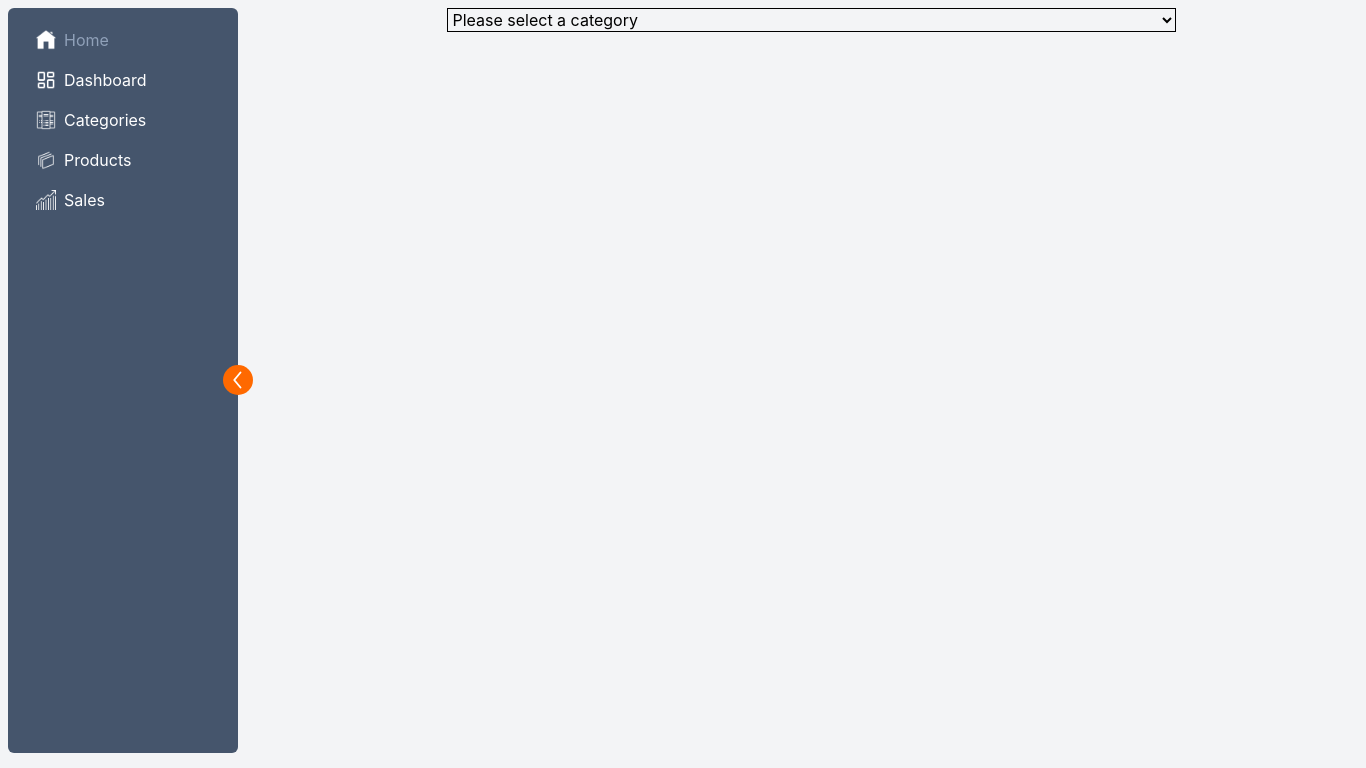
Scenario: ManageProductsPage › should visualize all products for selected category
Select "Electronics" in the dropdown at (812, 20), box [447,8,1176,32]
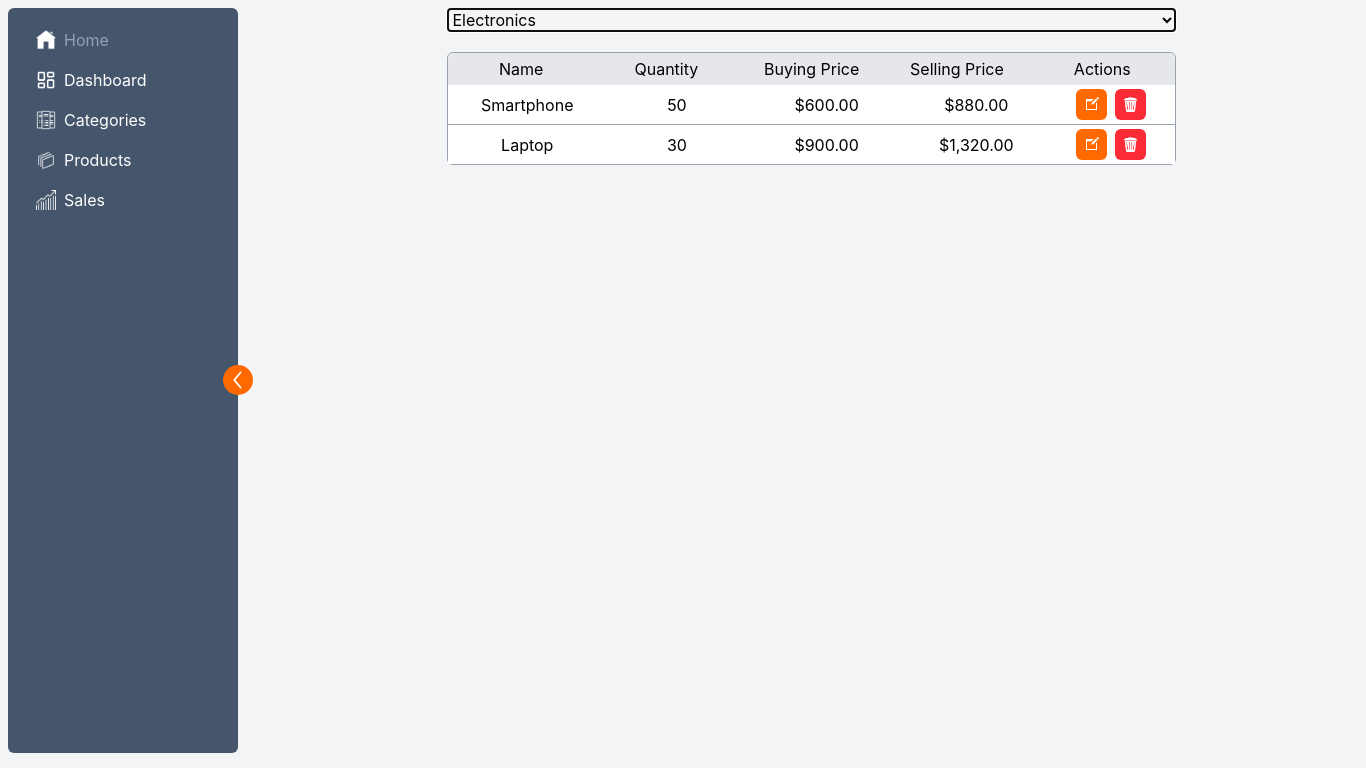
Expected: the element with test id "products" is shown, [448,85,1175,164]
